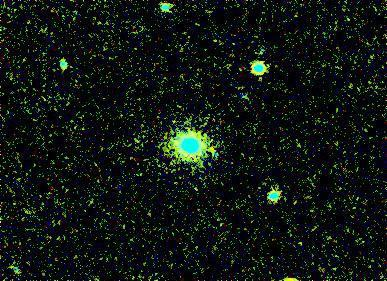star: (197, 135, 227, 165)
